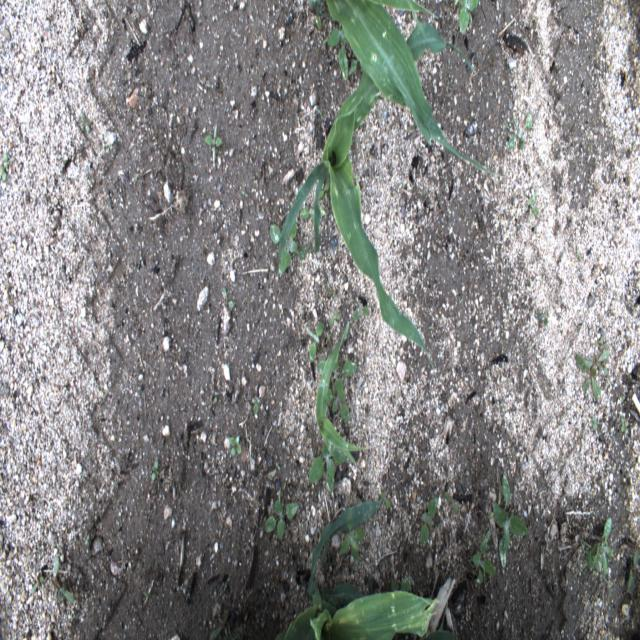crop: (277, 23, 476, 381), (326, 0, 498, 177), (276, 501, 440, 639), (317, 320, 373, 466), (426, 598, 461, 640)
weed: (492, 472, 532, 572), (268, 215, 312, 277), (309, 432, 348, 497), (316, 353, 357, 399), (337, 505, 366, 569), (326, 25, 356, 82), (471, 527, 497, 585), (264, 498, 298, 541), (574, 351, 602, 403), (51, 554, 74, 604), (596, 514, 613, 578), (418, 495, 438, 546), (320, 388, 350, 422), (506, 114, 534, 149), (305, 321, 325, 363), (310, 0, 336, 31), (205, 121, 222, 164), (457, 0, 479, 33), (580, 538, 600, 571), (209, 608, 230, 638), (488, 484, 502, 522), (582, 350, 610, 368), (628, 549, 639, 594), (391, 575, 414, 596), (525, 189, 539, 219), (352, 298, 371, 319), (299, 206, 326, 220), (446, 489, 459, 515), (597, 352, 610, 378), (318, 176, 330, 201), (79, 111, 92, 134), (230, 434, 241, 458), (594, 332, 608, 349), (0, 152, 8, 181), (32, 575, 44, 594), (381, 490, 392, 508), (151, 458, 159, 481), (252, 394, 260, 414), (350, 58, 358, 76), (330, 312, 339, 326), (621, 415, 627, 435), (591, 416, 598, 430)
